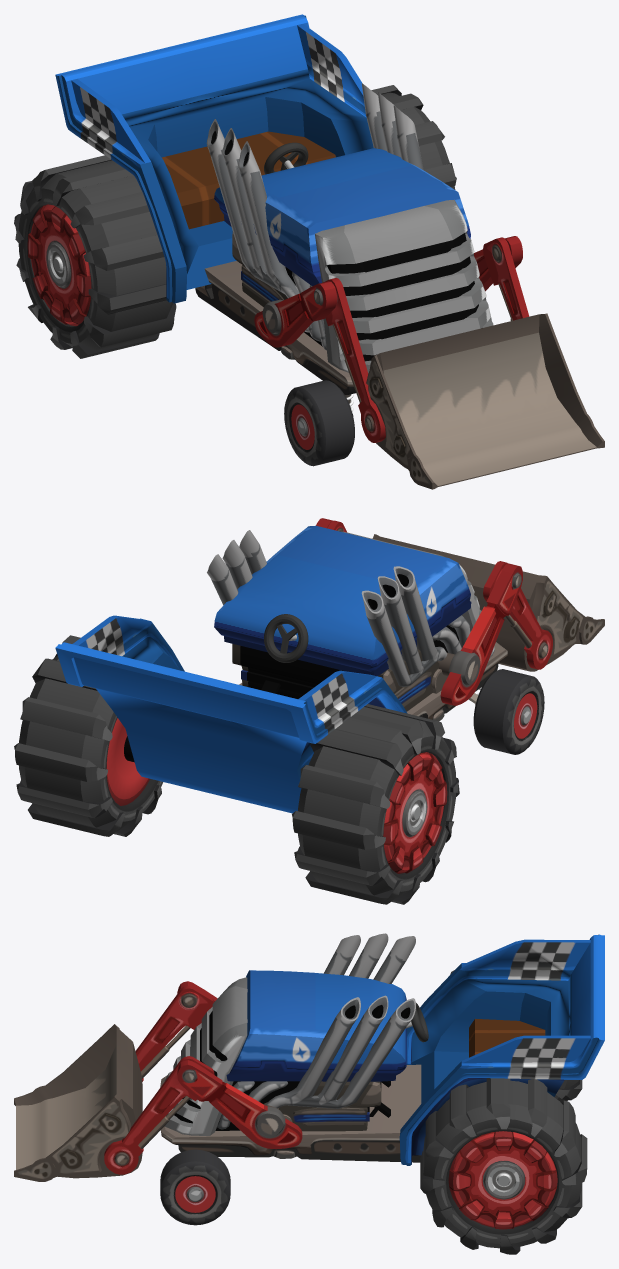
The model's file is hcr2_tractor.glb.
The picture shows the model from 3 angles, top to bottom: view 1: azimuth 30°, elevation 25°; view 2: azimuth 150°, elevation 25°; view 3: azimuth 270°, elevation 25°; orthographic projection. The views are drawn at different scales.
Parts seen in each view (by area): view 1: HCR2_Tractor_Body_8, HCR2_Tractor_Loader_Scoop_2, HCR2_Tractor_RR_Wheel_12, HCR2_Tractor_Engine_Cover_16, HCR2_Tractor_Exhausts_15, HCR2_Tractor_Engine_7, HCR2_Tractor_Loader_Arms_F_3, HCR2_Tractor_Seat_14, HCR2_Tractor_FR_Wheel_10, HCR2_Tractor_Frame_6, HCR2_Tractor_Loader_Arms_R_4, HCR2_Tractor_RL_Wheel_11 (+1 smaller); view 2: HCR2_Tractor_Body_8, HCR2_Tractor_RR_Wheel_12, HCR2_Tractor_RL_Wheel_11, HCR2_Tractor_Exhausts_15, HCR2_Tractor_Loader_Scoop_2, HCR2_Tractor_FR_Wheel_10, HCR2_Tractor_Engine_7, HCR2_Tractor_Loader_Arms_R_4, HCR2_Tractor_Loader_Arms_F_3, HCR2_Tractor_Steer_1, HCR2_Tractor_Frame_6, HCR2_Tractor_Engine_Cover_16; view 3: HCR2_Tractor_Body_8, HCR2_Tractor_RL_Wheel_11, HCR2_Tractor_Loader_Scoop_2, HCR2_Tractor_Exhausts_15, HCR2_Tractor_Frame_6, HCR2_Tractor_Loader_Arms_F_3, HCR2_Tractor_Engine_Cover_16, HCR2_Tractor_Loader_Arms_R_4, HCR2_Tractor_FL_Wheel_9, HCR2_Tractor_Engine_7, HCR2_Tractor_Seat_14, HCR2_Tractor_RR_Wheel_12.
Boxes of the visible parts, x1,y1,x2,y2 form: HCR2_Tractor_Body_8: (55, 14, 470, 303); HCR2_Tractor_Loader_Scoop_2: (366, 313, 604, 489); HCR2_Tractor_RR_Wheel_12: (14, 155, 176, 358); HCR2_Tractor_Engine_Cover_16: (315, 199, 493, 372); HCR2_Tractor_Exhausts_15: (206, 83, 423, 350); HCR2_Tractor_Engine_7: (232, 231, 478, 361); HCR2_Tractor_Loader_Arms_F_3: (323, 237, 529, 442); HCR2_Tractor_Seat_14: (162, 131, 335, 229); HCR2_Tractor_FR_Wheel_10: (284, 380, 354, 466); HCR2_Tractor_Frame_6: (195, 261, 355, 394); HCR2_Tractor_Loader_Arms_R_4: (254, 236, 522, 347); HCR2_Tractor_RL_Wheel_11: (371, 85, 456, 189); HCR2_Tractor_Body_8: (55, 525, 471, 813); HCR2_Tractor_RR_Wheel_12: (292, 704, 459, 904); HCR2_Tractor_RL_Wheel_11: (14, 635, 163, 836); HCR2_Tractor_Exhausts_15: (207, 530, 470, 686); HCR2_Tractor_Loader_Scoop_2: (372, 534, 604, 671); HCR2_Tractor_FR_Wheel_10: (473, 669, 544, 754); HCR2_Tractor_Engine_7: (232, 625, 459, 711); HCR2_Tractor_Loader_Arms_R_4: (316, 518, 522, 705); HCR2_Tractor_Loader_Arms_F_3: (327, 520, 552, 669); HCR2_Tractor_Steer_1: (264, 614, 308, 662); HCR2_Tractor_Frame_6: (239, 642, 507, 721); HCR2_Tractor_Engine_Cover_16: (341, 531, 494, 658); HCR2_Tractor_Body_8: (226, 934, 604, 1165); HCR2_Tractor_RL_Wheel_11: (420, 1078, 587, 1254); HCR2_Tractor_Loader_Scoop_2: (14, 1024, 142, 1181); HCR2_Tractor_Exhausts_15: (217, 933, 415, 1129); HCR2_Tractor_Frame_6: (160, 1064, 421, 1162); HCR2_Tractor_Loader_Arms_F_3: (104, 985, 214, 1174); HCR2_Tractor_Engine_Cover_16: (164, 977, 247, 1135); HCR2_Tractor_Loader_Arms_R_4: (177, 981, 302, 1149); HCR2_Tractor_FL_Wheel_9: (160, 1149, 230, 1225); HCR2_Tractor_Engine_7: (174, 1011, 381, 1131); HCR2_Tractor_Seat_14: (469, 1018, 545, 1057); HCR2_Tractor_RR_Wheel_12: (450, 970, 582, 1103).
Bounding box in the file's own units: 2.97 × 1.94 × 4.8.
Materials: 2 (2 with a texture image).
